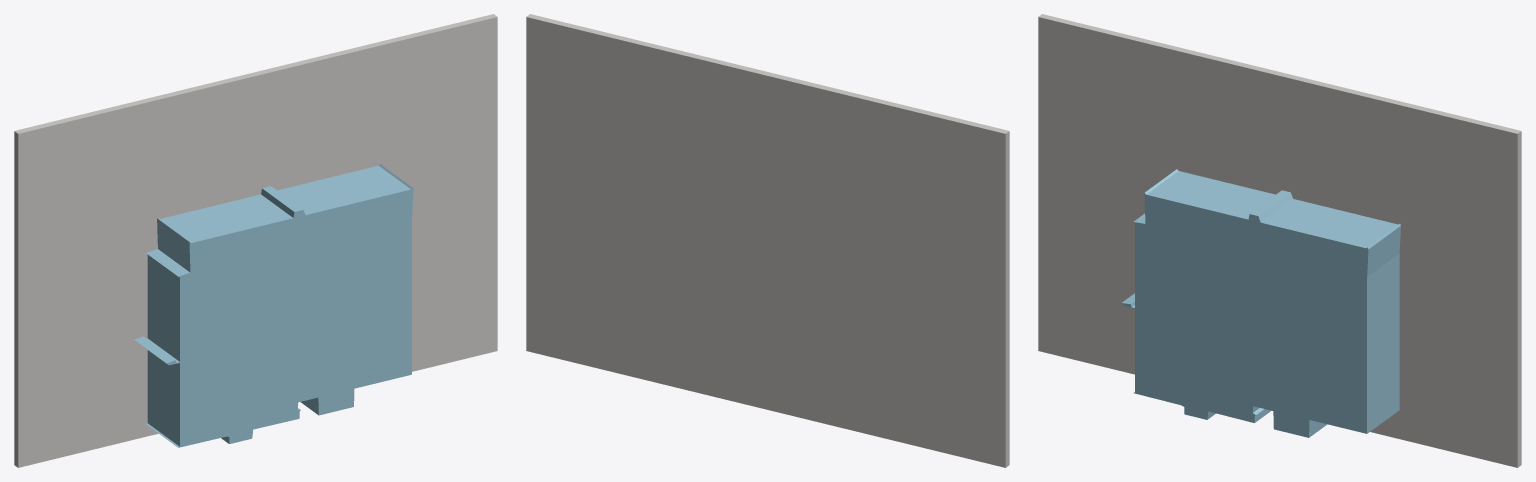
3 views of the same model, side by side, from view 1: azimuth 30°, elevation 25°; view 2: azimuth 150°, elevation 25°; view 3: azimuth 330°, elevation 25° (orthographic).
Parts seen in each view (by area): view 1: world; view 2: world; view 3: world.
Part boxes in pixels (x1,y1,x2,y2): world: (14, 14, 497, 467); world: (526, 14, 1009, 467); world: (1038, 14, 1521, 467).
Size of the model in its own units: 10.23 by 6.81 by 1.35.
